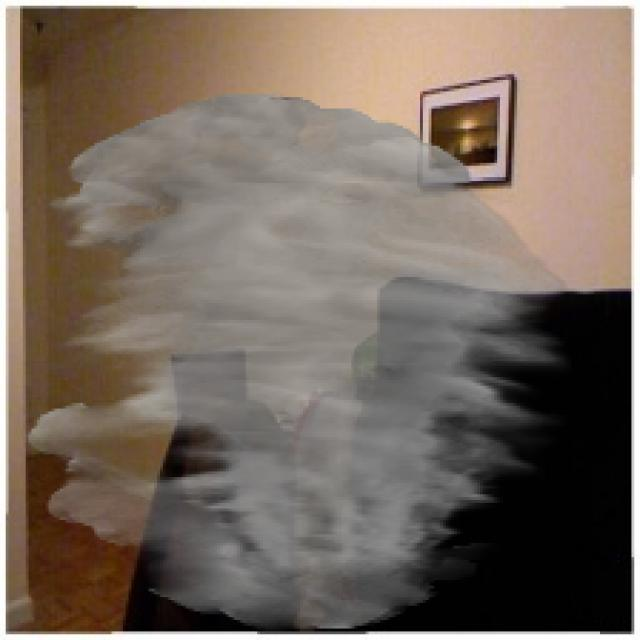smoke: (26, 94, 571, 632)
